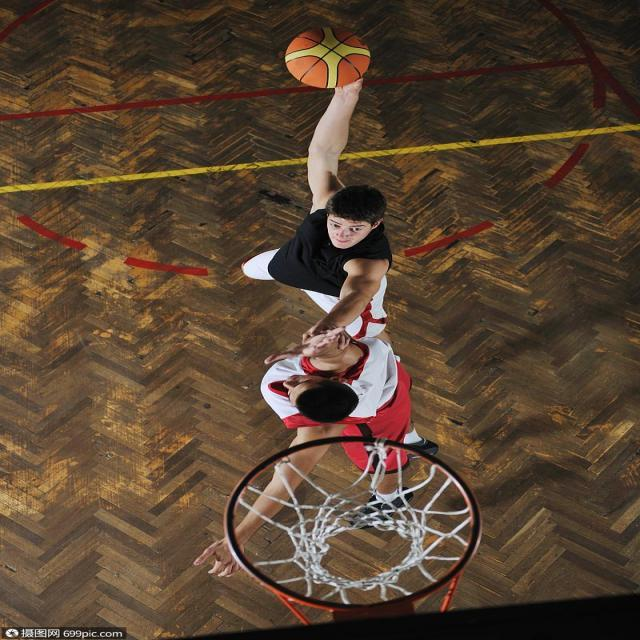rim: (286, 29, 371, 88)
